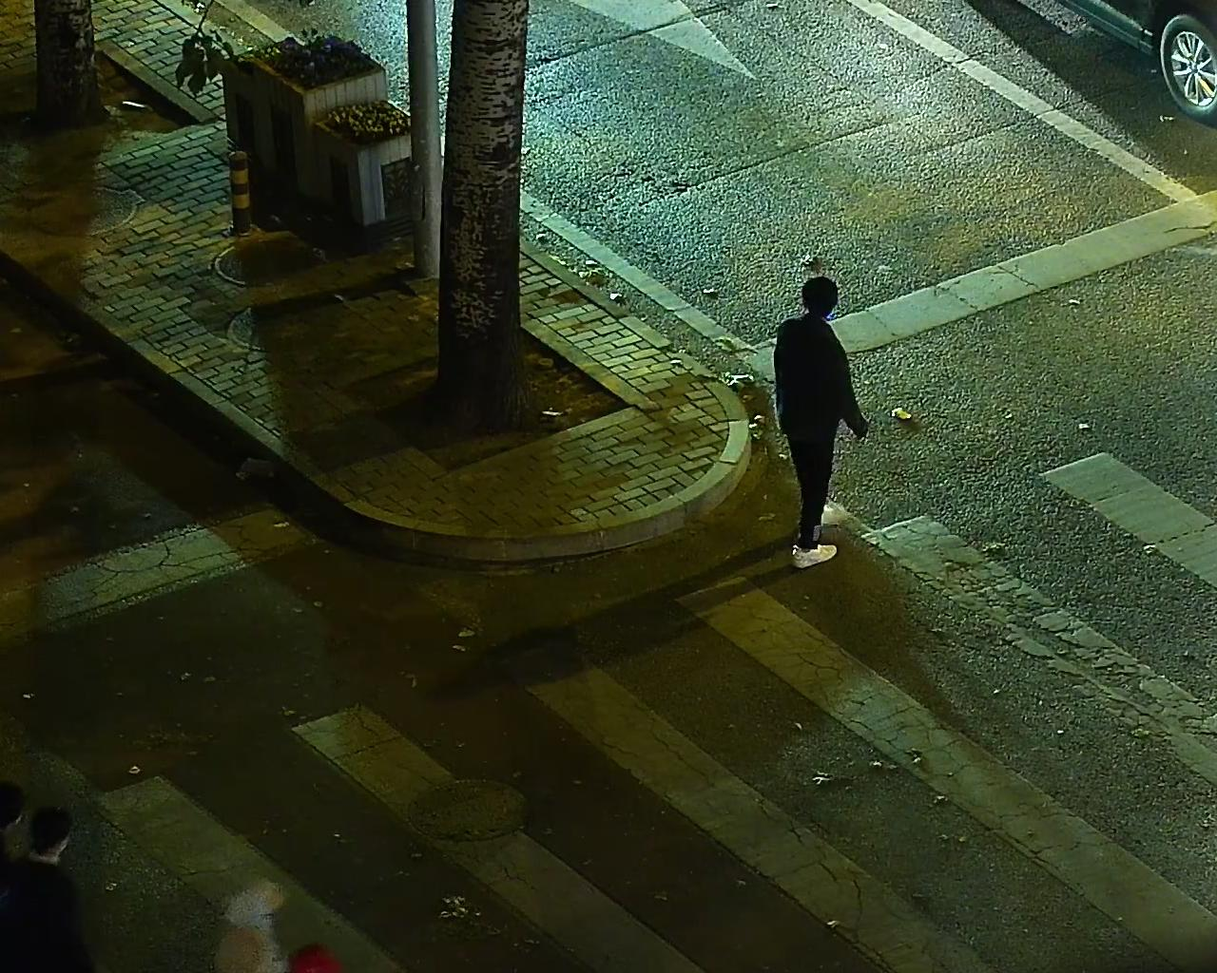person: (777, 268, 858, 579), (10, 797, 111, 973), (215, 868, 329, 973), (265, 937, 380, 973), (3, 765, 34, 845)
